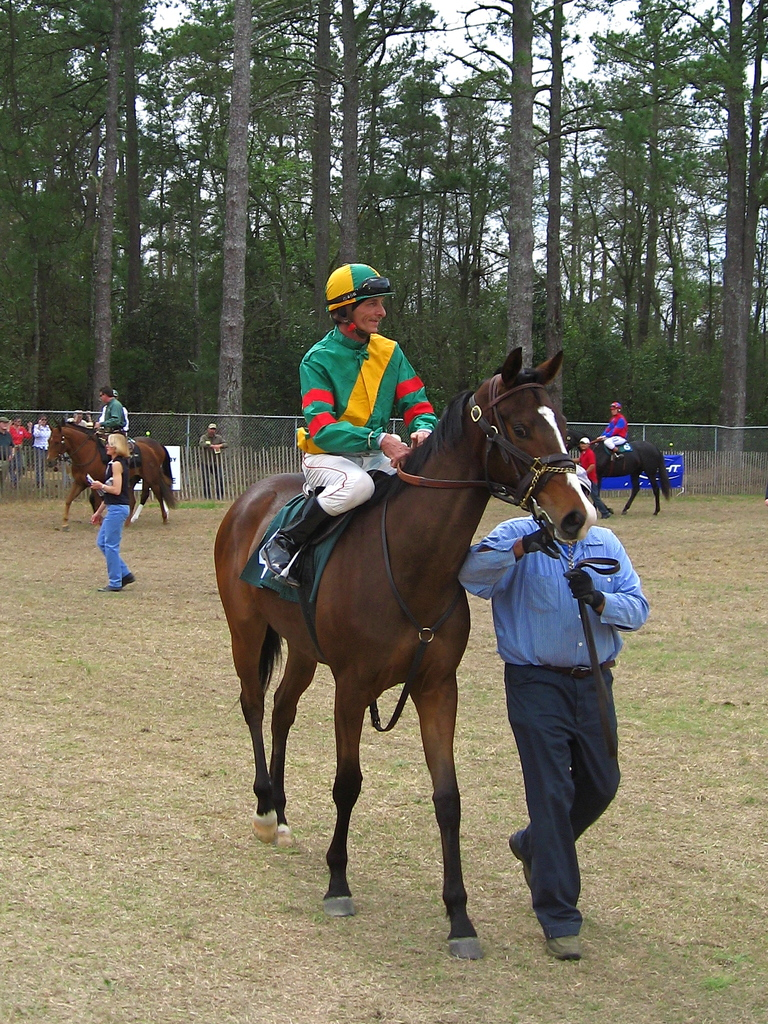horse: (214, 346, 597, 958), (44, 415, 182, 530)
